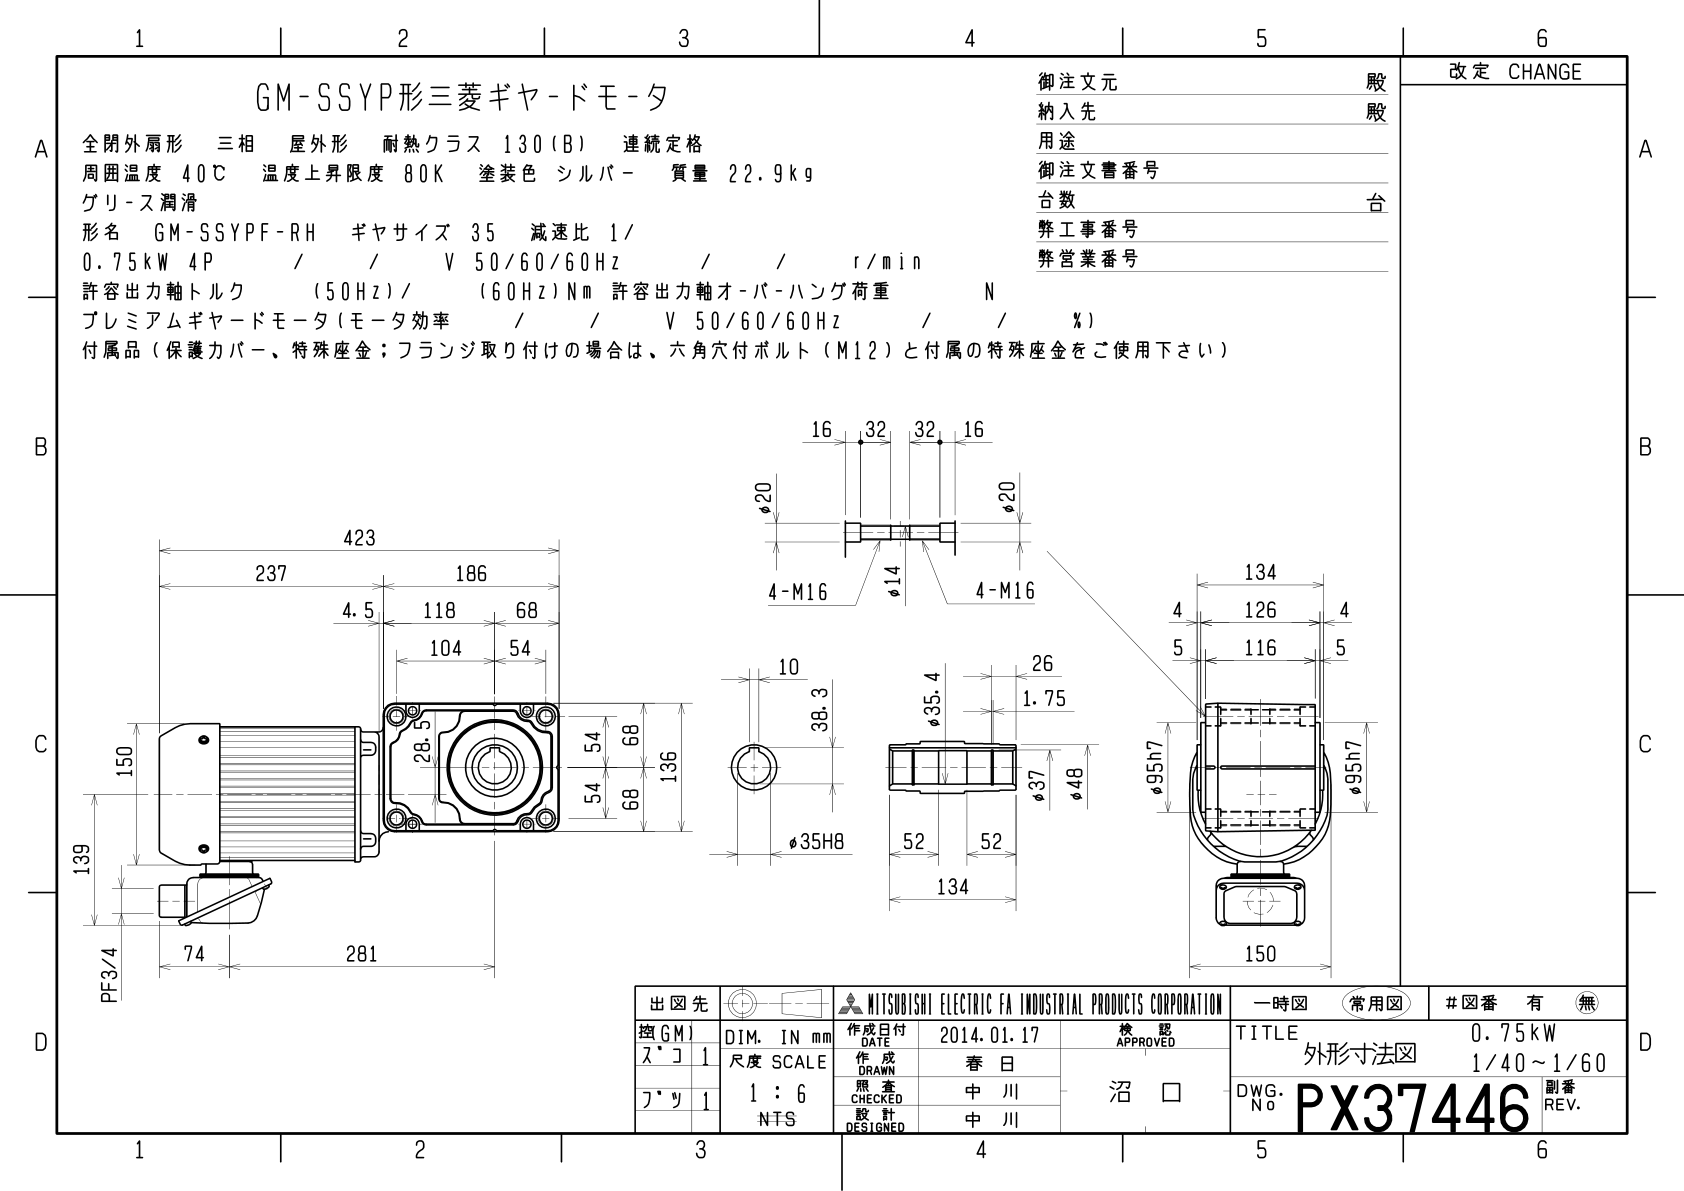GM_SSYP_屋外_三相: (1, 1, 1669, 1178)
